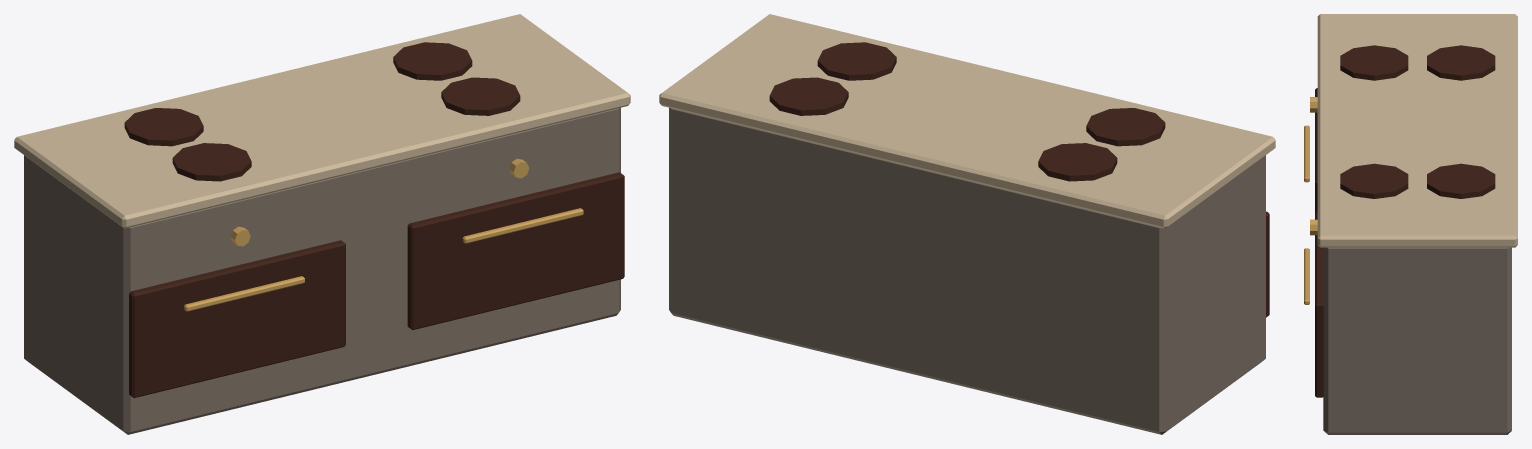
Rendered from stove_02.glb.
3 renders of one model, left to right at view 1: azimuth 30°, elevation 25°; view 2: azimuth 150°, elevation 25°; view 3: azimuth 270°, elevation 25°, orthographic. The views are drawn at different scales.
Parts seen in each view (by area): view 1: Iron, Top, Oven_001, Oven, Burner_003, Burner, Burner_002, Burner_001, Bar_001, Bar; view 2: Iron, Top, Burner_002, Burner_001, Burner_003, Burner; view 3: Top, Iron, Burner, Burner_001, Burner_002, Burner_003, Oven_001, Bar, Bar_001, Oven.
Boxes of the visible parts, x1,y1,x2,y2 form: Iron: (24,107,620,434); Top: (14,14,630,228); Oven_001: (407,172,624,330); Oven: (129,240,345,397); Burner_003: (393,42,472,80); Burner: (172,143,251,181); Burner_002: (441,77,520,115); Burner_001: (124,108,203,146); Bar_001: (462,208,583,243); Bar: (184,276,304,311); Iron: (669,107,1265,434); Top: (659,14,1275,228); Burner_002: (817,42,896,80); Burner_001: (1038,143,1117,181); Burner_003: (769,77,848,115); Burner: (1086,108,1165,146); Top: (1317,14,1517,247); Iron: (1323,247,1511,434); Burner: (1340,45,1408,80); Burner_001: (1427,45,1495,80); Burner_002: (1340,163,1408,198); Burner_003: (1427,163,1495,198); Oven_001: (1315,210,1323,397); Bar: (1304,125,1309,182); Bar_001: (1304,248,1309,304); Oven: (1315,88,1317,211).
Bounding box in the file's own units: 2.25 × 0.972 × 0.9075.
